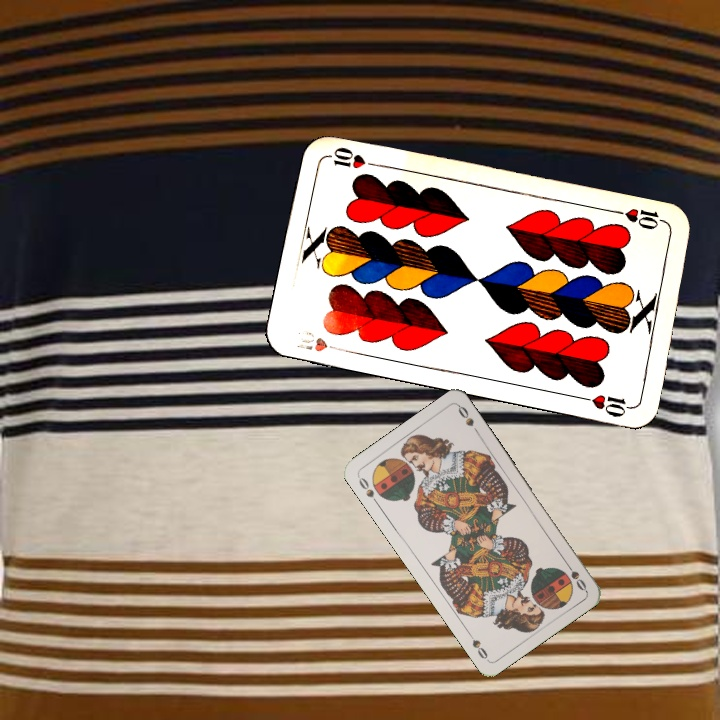H10: (611, 204, 669, 233), (292, 325, 347, 355)
SO: (561, 557, 589, 593), (354, 472, 382, 508)
